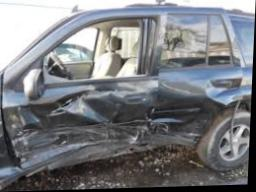Door: (1, 18, 158, 176), (141, 14, 245, 167)
Fender: (0, 79, 28, 189)
